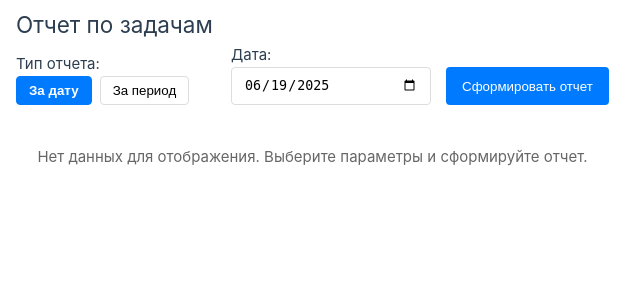
it: TasksReport.vue › отображает опции периода
# Сначала выбираем тип отчета "period"
Click the button with class "type-btn" showing "За период": (144,90) x1=100 y1=76 x2=189 y2=105
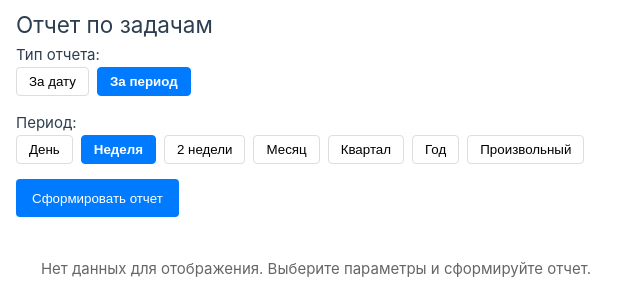
Expected: the button "День" is shown, x1=16 y1=135 x2=73 y2=164
Expected: the button "Произвольный" is shown, x1=467 y1=135 x2=584 y2=164
